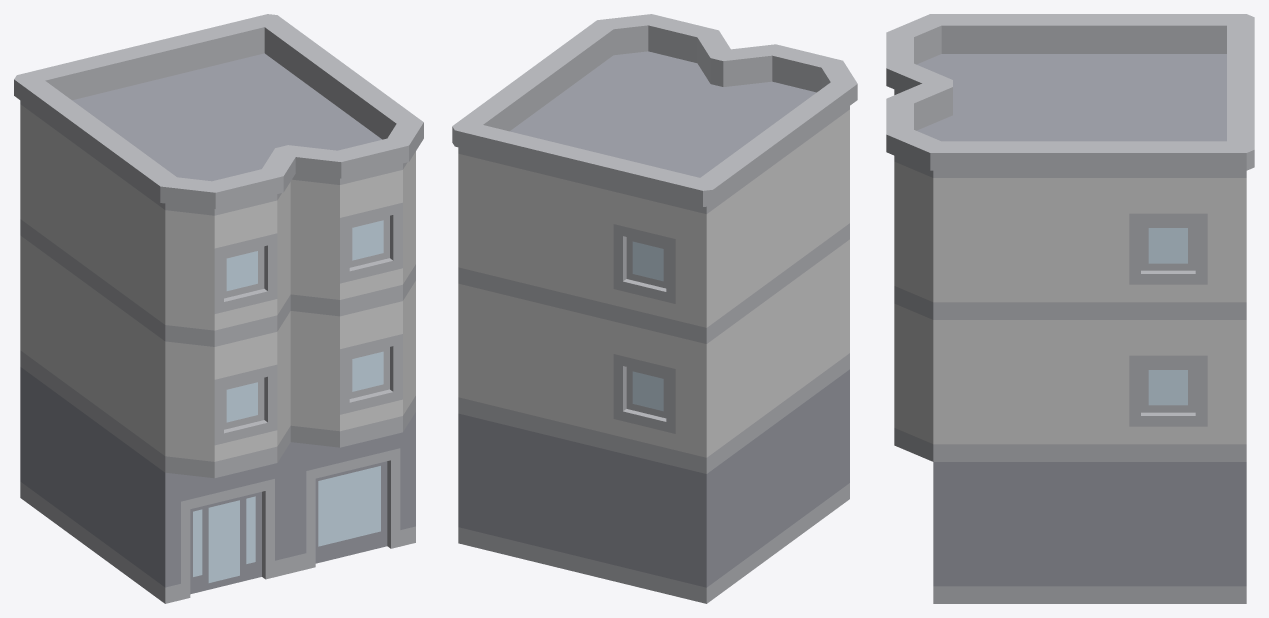
The model's file is small_buildingA_testExport.glb.
The picture shows the model from 3 angles, left to right: view 1: azimuth 30°, elevation 25°; view 2: azimuth 150°, elevation 25°; view 3: azimuth 270°, elevation 25°; orthographic projection. The views are drawn at different scales.
Visible parts, largest first — view 1: small_buildingA; view 2: small_buildingA; view 3: small_buildingA.
Part boxes in pixels (bbox=[...]): small_buildingA: bbox=[14, 14, 423, 603]; small_buildingA: bbox=[452, 14, 857, 603]; small_buildingA: bbox=[886, 14, 1254, 603].
Bounding box in the file's own units: 0.84 × 1.28 × 0.94.
